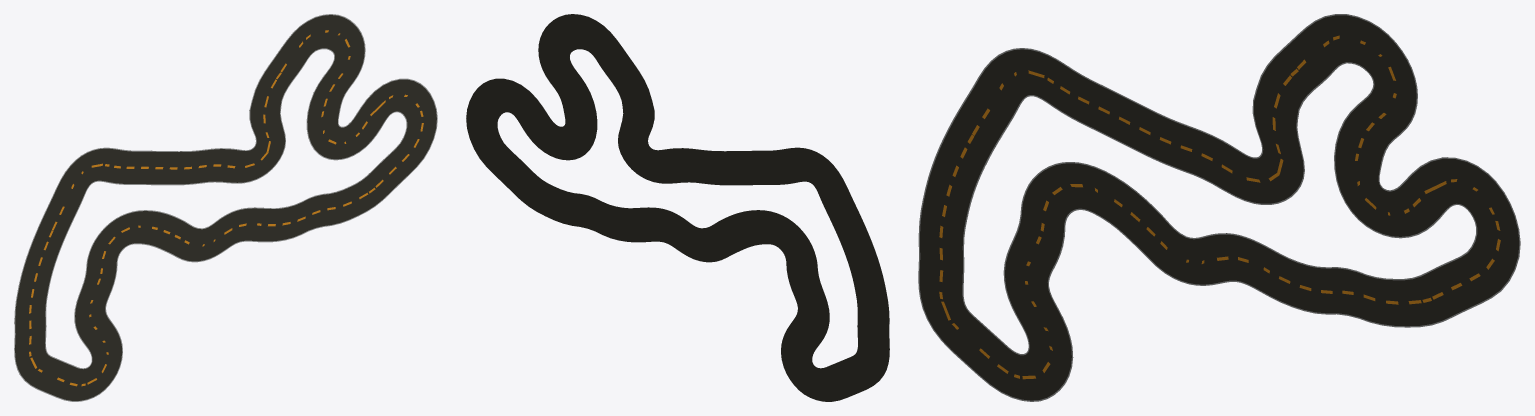
File: track.obj
3 views of the same model, side by side, from view 1: azimuth 30°, elevation 25°; view 2: azimuth 150°, elevation 25°; view 3: azimuth 330°, elevation 25° (orthographic). The views are drawn at different scales.
Bounding box in the file's own units: 19.24 × 14.23 × 0.002.
